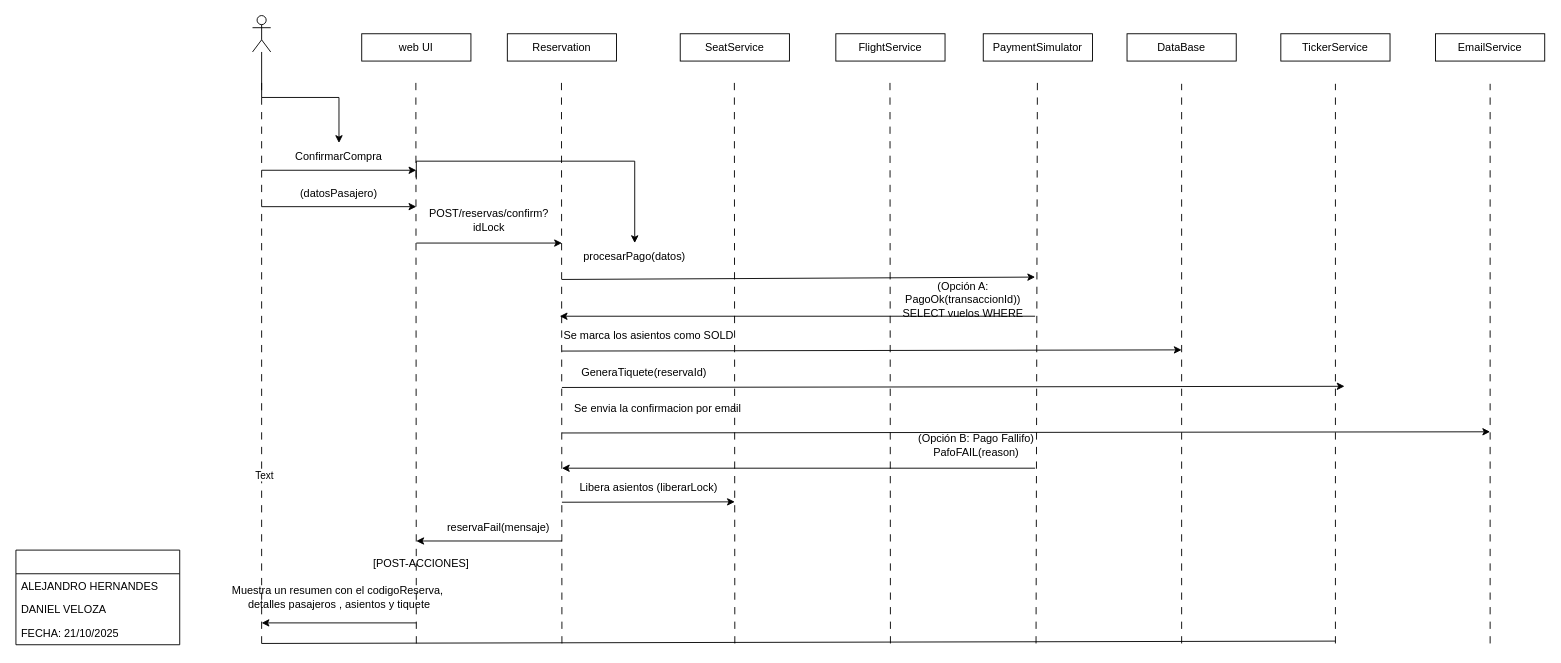
Some shapes in this 1561 by 663 pixel diagram are drawn without their labels. The box of each missing label's shape, as (x1, y1, x2, y2) in pixels:
AUTORIA: (15, 549, 180, 645)
Pasajero: (252, 15, 271, 52)
